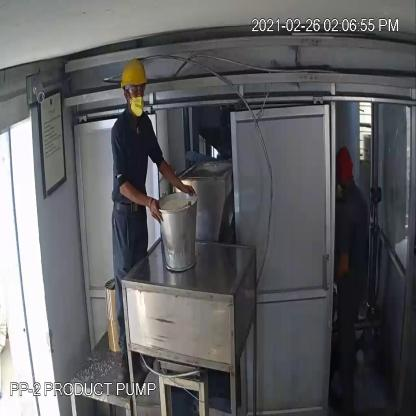helmet: (118, 56, 153, 98)
